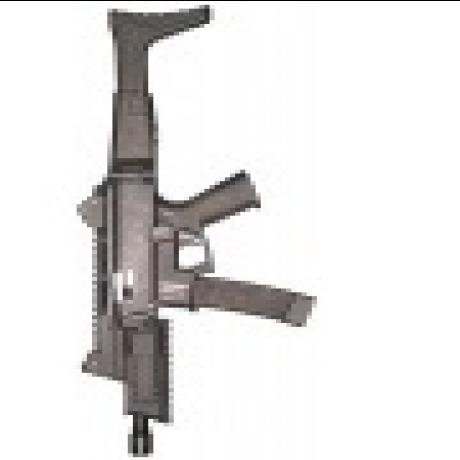weapon: (62, 2, 314, 456)
